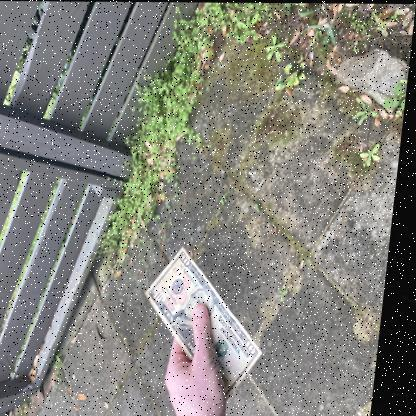ten-front: (151, 244, 272, 404)
